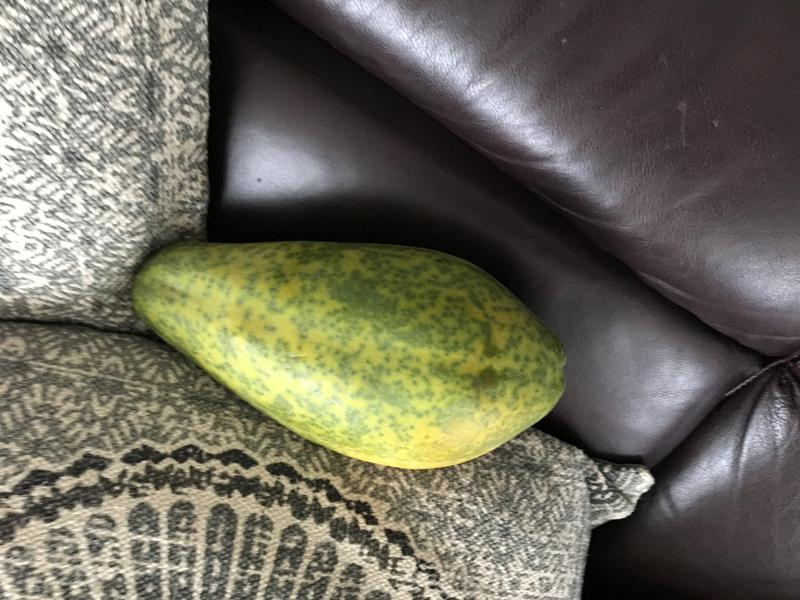papaya: (100, 216, 582, 486)
